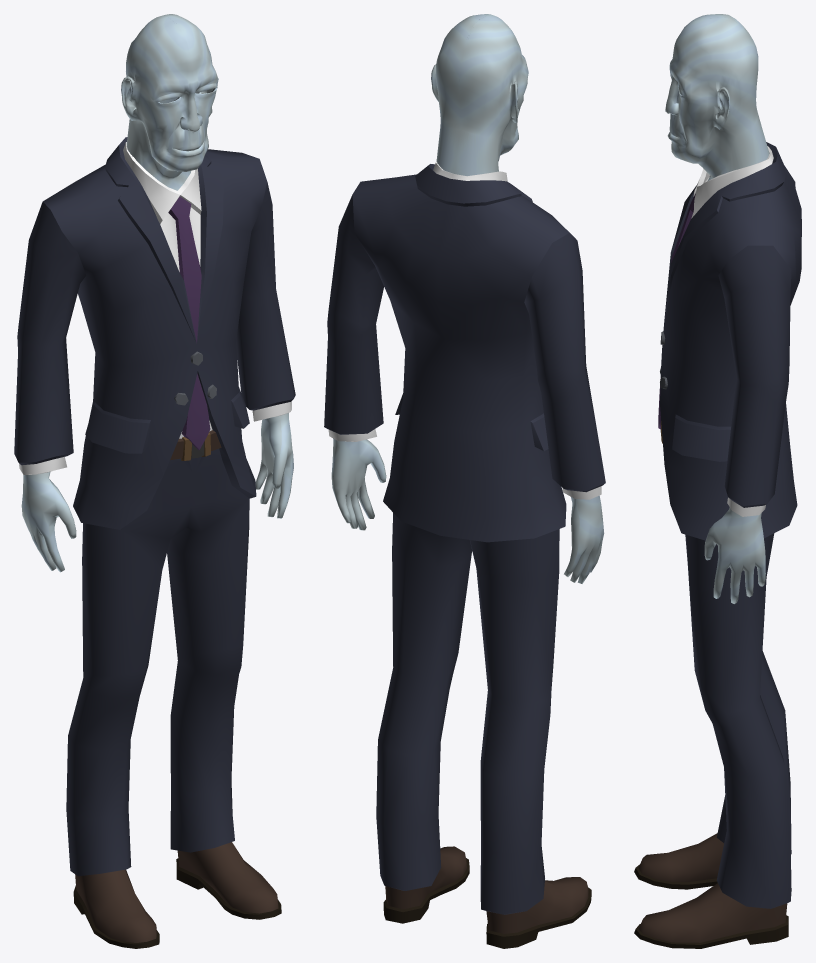
The model's file is traderpunk.glb.
The picture shows the model from 3 angles, left to right: view 1: azimuth 30°, elevation 25°; view 2: azimuth 150°, elevation 25°; view 3: azimuth 270°, elevation 25°; orthographic projection.
Parts seen in each view (by area): view 1: man_in_suit_suit_0, face, man_in_suit_leather_0, man_in_suit_skin_0, man_in_suit_shirt_0, man_in_suit_tie_0, man_in_suit_sole_0; view 2: man_in_suit_suit_0, face, man_in_suit_skin_0, man_in_suit_leather_0, man_in_suit_sole_0, man_in_suit_shirt_0; view 3: man_in_suit_suit_0, face, man_in_suit_leather_0, man_in_suit_skin_0, man_in_suit_sole_0, man_in_suit_shirt_0, man_in_suit_tie_0.
Boxes of the visible parts, bbox=[...] form: man_in_suit_suit_0: bbox=[14, 137, 295, 876]; face: bbox=[121, 14, 218, 190]; man_in_suit_leather_0: bbox=[75, 430, 278, 942]; man_in_suit_skin_0: bbox=[21, 413, 293, 572]; man_in_suit_shirt_0: bbox=[19, 142, 291, 475]; man_in_suit_tie_0: bbox=[168, 196, 210, 450]; man_in_suit_sole_0: bbox=[73, 858, 281, 948]; man_in_suit_suit_0: bbox=[324, 164, 605, 914]; face: bbox=[431, 14, 528, 176]; man_in_suit_skin_0: bbox=[331, 438, 604, 583]; man_in_suit_leather_0: bbox=[385, 846, 588, 933]; man_in_suit_sole_0: bbox=[383, 858, 591, 948]; man_in_suit_shirt_0: bbox=[328, 158, 601, 499]; man_in_suit_suit_0: bbox=[660, 142, 801, 908]; face: bbox=[665, 14, 769, 180]; man_in_suit_leather_0: bbox=[638, 833, 787, 942]; man_in_suit_skin_0: bbox=[704, 507, 765, 603]; man_in_suit_sole_0: bbox=[634, 864, 788, 948]; man_in_suit_shirt_0: bbox=[691, 146, 773, 516]; man_in_suit_tie_0: bbox=[658, 193, 695, 429].
Bounding box in the file's own units: 0.6345 × 1.95 × 0.3321.
Materials: 10 (1 with a texture image).
